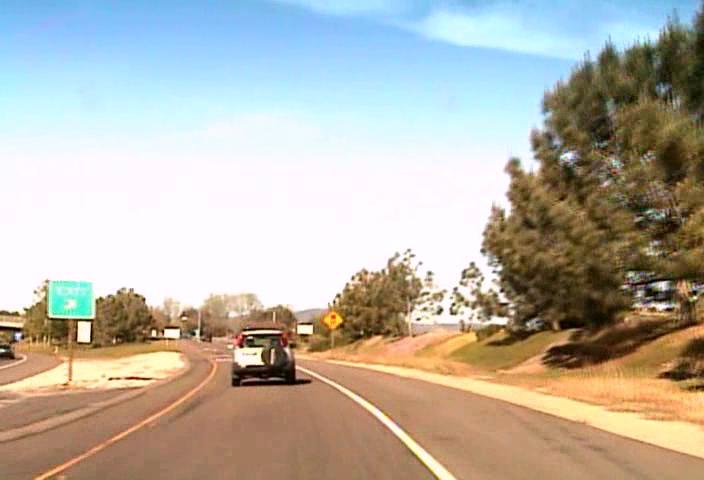signalAhead: (321, 309, 344, 330)
